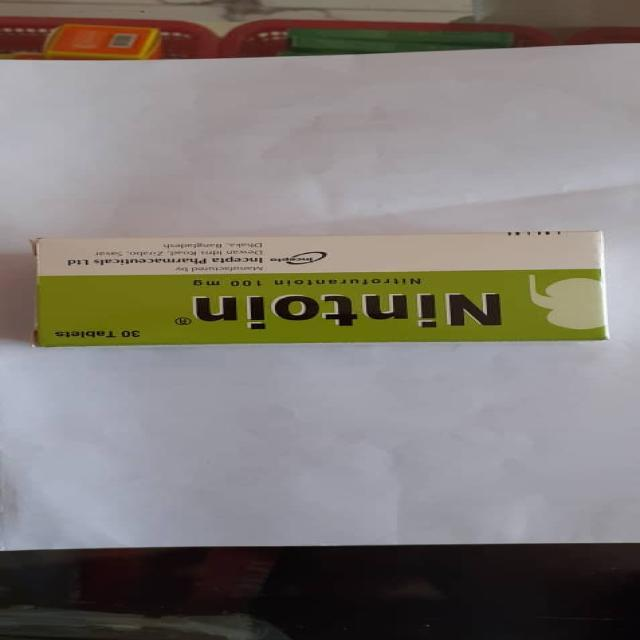drug-name: (185, 294, 511, 332)
